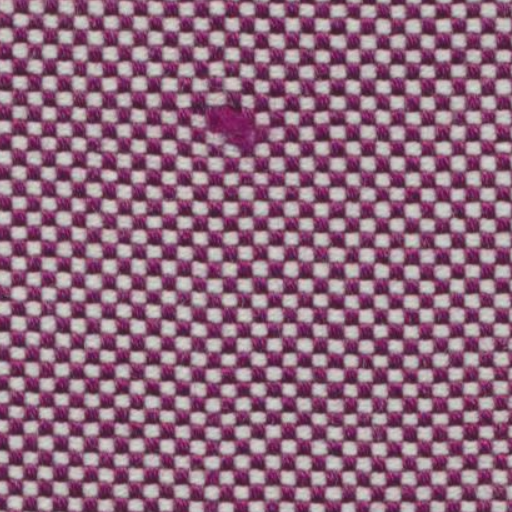MianQiu: (192, 91, 262, 152)
